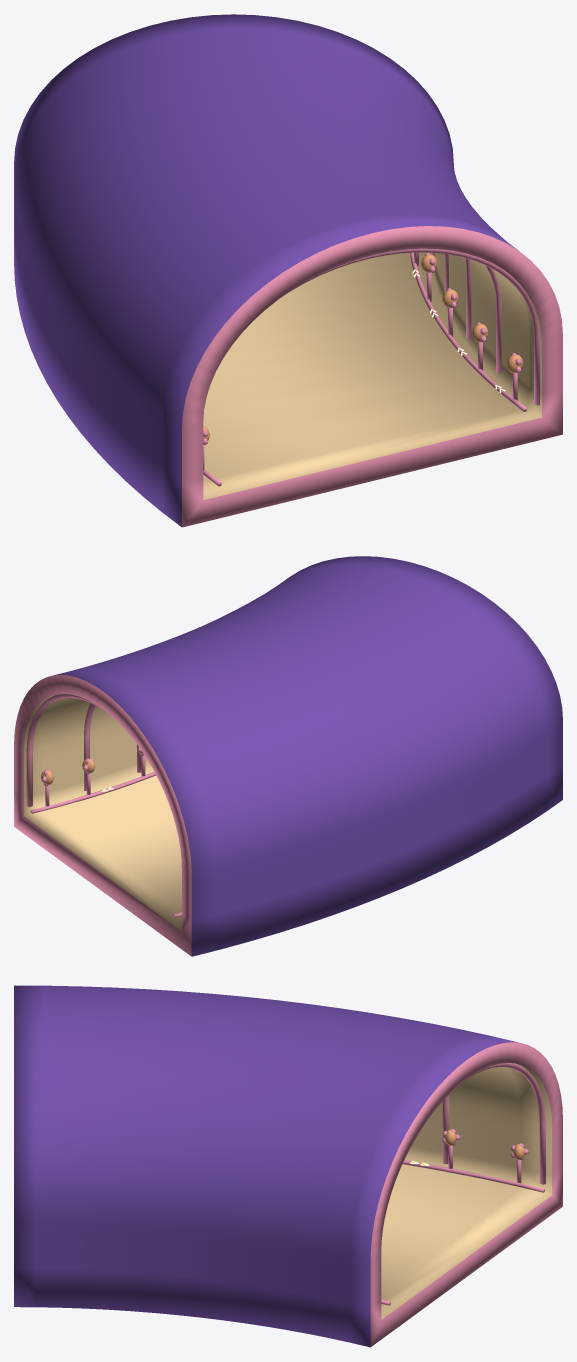
File: curve_right_30.glb
3 renders of one model, top to bottom at view 1: azimuth 30°, elevation 25°; view 2: azimuth 150°, elevation 25°; view 3: azimuth 270°, elevation 25°, orthographic. The views are drawn at different scales.
Parts seen in each view (by area): view 1: TunnelGeometry; view 2: TunnelGeometry; view 3: TunnelGeometry.
Boxes of the visible parts, x1=… form: TunnelGeometry: x1=14, y1=14, x2=562, y2=527; TunnelGeometry: x1=14, y1=556, x2=562, y2=956; TunnelGeometry: x1=14, y1=985, x2=562, y2=1347.
Bounding box in the file's own units: 19.1 × 9.52 × 21.83.
Materials: 5 (2 with a texture image).
